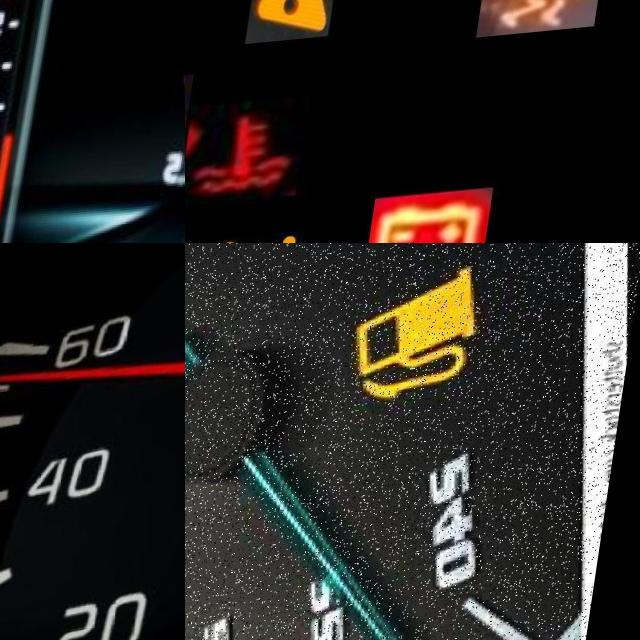Central Warning lamp: (254, 0, 351, 49)
Engine cooling system: (192, 102, 322, 211)
